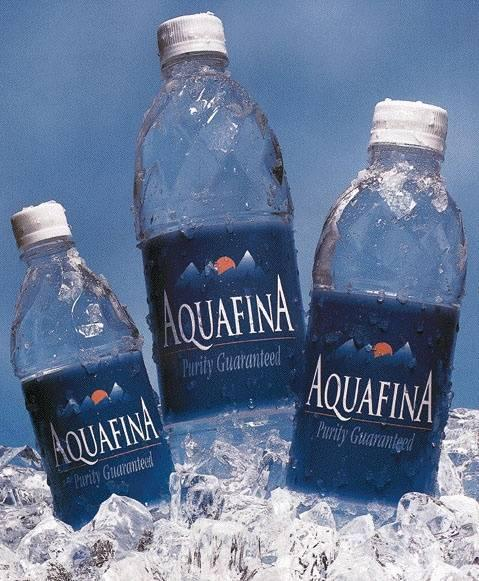bottle: (120, 5, 315, 478), (276, 100, 479, 505), (7, 195, 177, 528)
